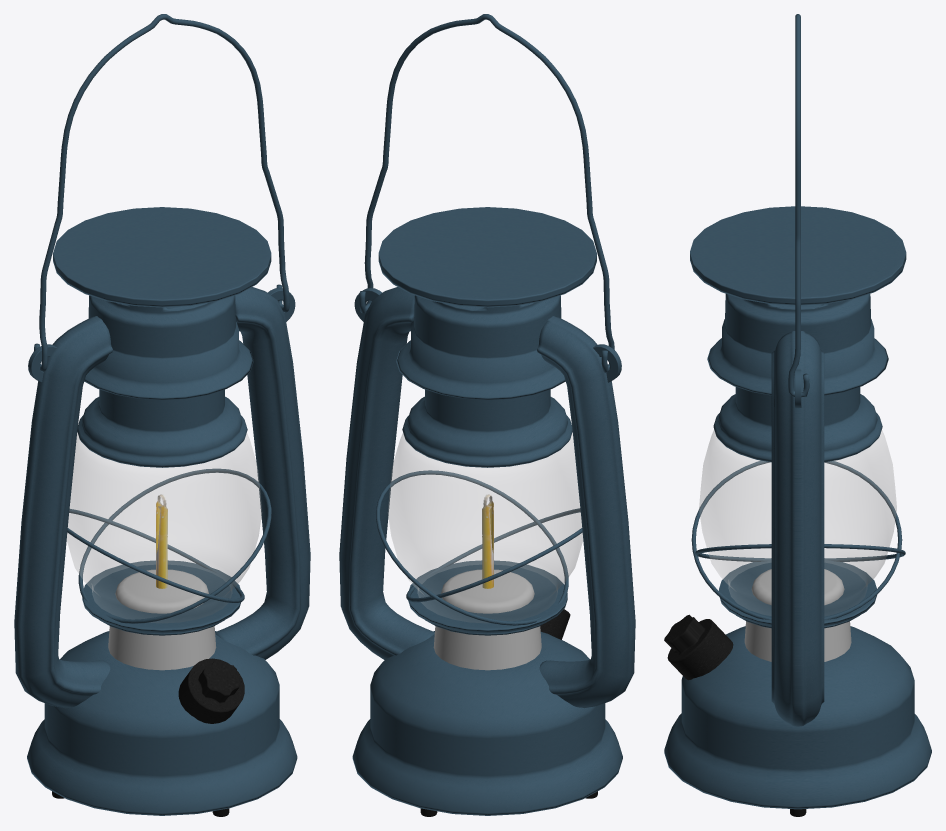
Rendered from ルミエールランタンブルーグレー.fbx.
The picture shows the model from 3 angles, left to right: view 1: azimuth 30°, elevation 25°; view 2: azimuth 150°, elevation 25°; view 3: azimuth 270°, elevation 25°; orthographic projection.
Visible parts, largest first — view 1: 円柱, 球, 円柱.001, 円柱.003, 円柱.002, 円柱.004, 円柱.005, 円柱.011, 円柱.006, 円柱.016, 円柱.015, Torus.002 (+2 smaller); view 2: 円柱, 球, 円柱.001, 円柱.003, 円柱.002, 円柱.004, 円柱.005, 円柱.011, 円柱.006, 円柱.015, Torus.002, Torus.001 (+1 smaller); view 3: 円柱, 円柱.004, 球, 円柱.001, 円柱.002, 円柱.005, 円柱.016, 円柱.011, Torus.001, 円柱.006, Torus.002, 円柱.015.
Part boxes in pixels (<box>): 円柱: <box>27,631,297,815</box>; 球: <box>67,433,261,622</box>; 円柱.001: <box>77,295,253,467</box>; 円柱.003: <box>14,316,112,708</box>; 円柱.002: <box>53,207,271,307</box>; 円柱.004: <box>215,287,310,659</box>; 円柱.005: <box>82,560,240,635</box>; 円柱.011: <box>34,14,289,371</box>; 円柱.006: <box>108,626,216,670</box>; 円柱.016: <box>178,658,244,723</box>; 円柱.015: <box>115,569,208,613</box>; Torus.002: <box>78,468,271,623</box>; 円柱: <box>352,631,622,815</box>; 球: <box>388,433,582,622</box>; 円柱.001: <box>396,295,572,467</box>; 円柱.003: <box>537,316,635,708</box>; 円柱.002: <box>378,207,596,307</box>; 円柱.004: <box>339,287,434,659</box>; 円柱.005: <box>408,560,567,635</box>; 円柱.011: <box>359,14,614,372</box>; 円柱.006: <box>433,626,541,670</box>; 円柱.015: <box>441,569,534,613</box>; Torus.002: <box>376,470,568,625</box>; Torus.001: <box>406,508,582,602</box>; 円柱: <box>664,626,931,809</box>; 円柱.004: <box>771,331,824,726</box>; 球: <box>699,430,896,615</box>; 円柱.001: <box>707,294,888,462</box>; 円柱.002: <box>690,206,906,305</box>; 円柱.005: <box>719,560,876,628</box>; 円柱.016: <box>664,614,733,680</box>; 円柱.011: <box>788,14,809,397</box>; Torus.001: <box>691,460,902,620</box>; 円柱.006: <box>744,621,851,661</box>; Torus.002: <box>695,544,905,561</box>; 円柱.015: <box>751,569,844,605</box>.
Size of the model in its own units: 14.38 by 35.49 by 11.49.
Materials: 5 (4 with a texture image).
